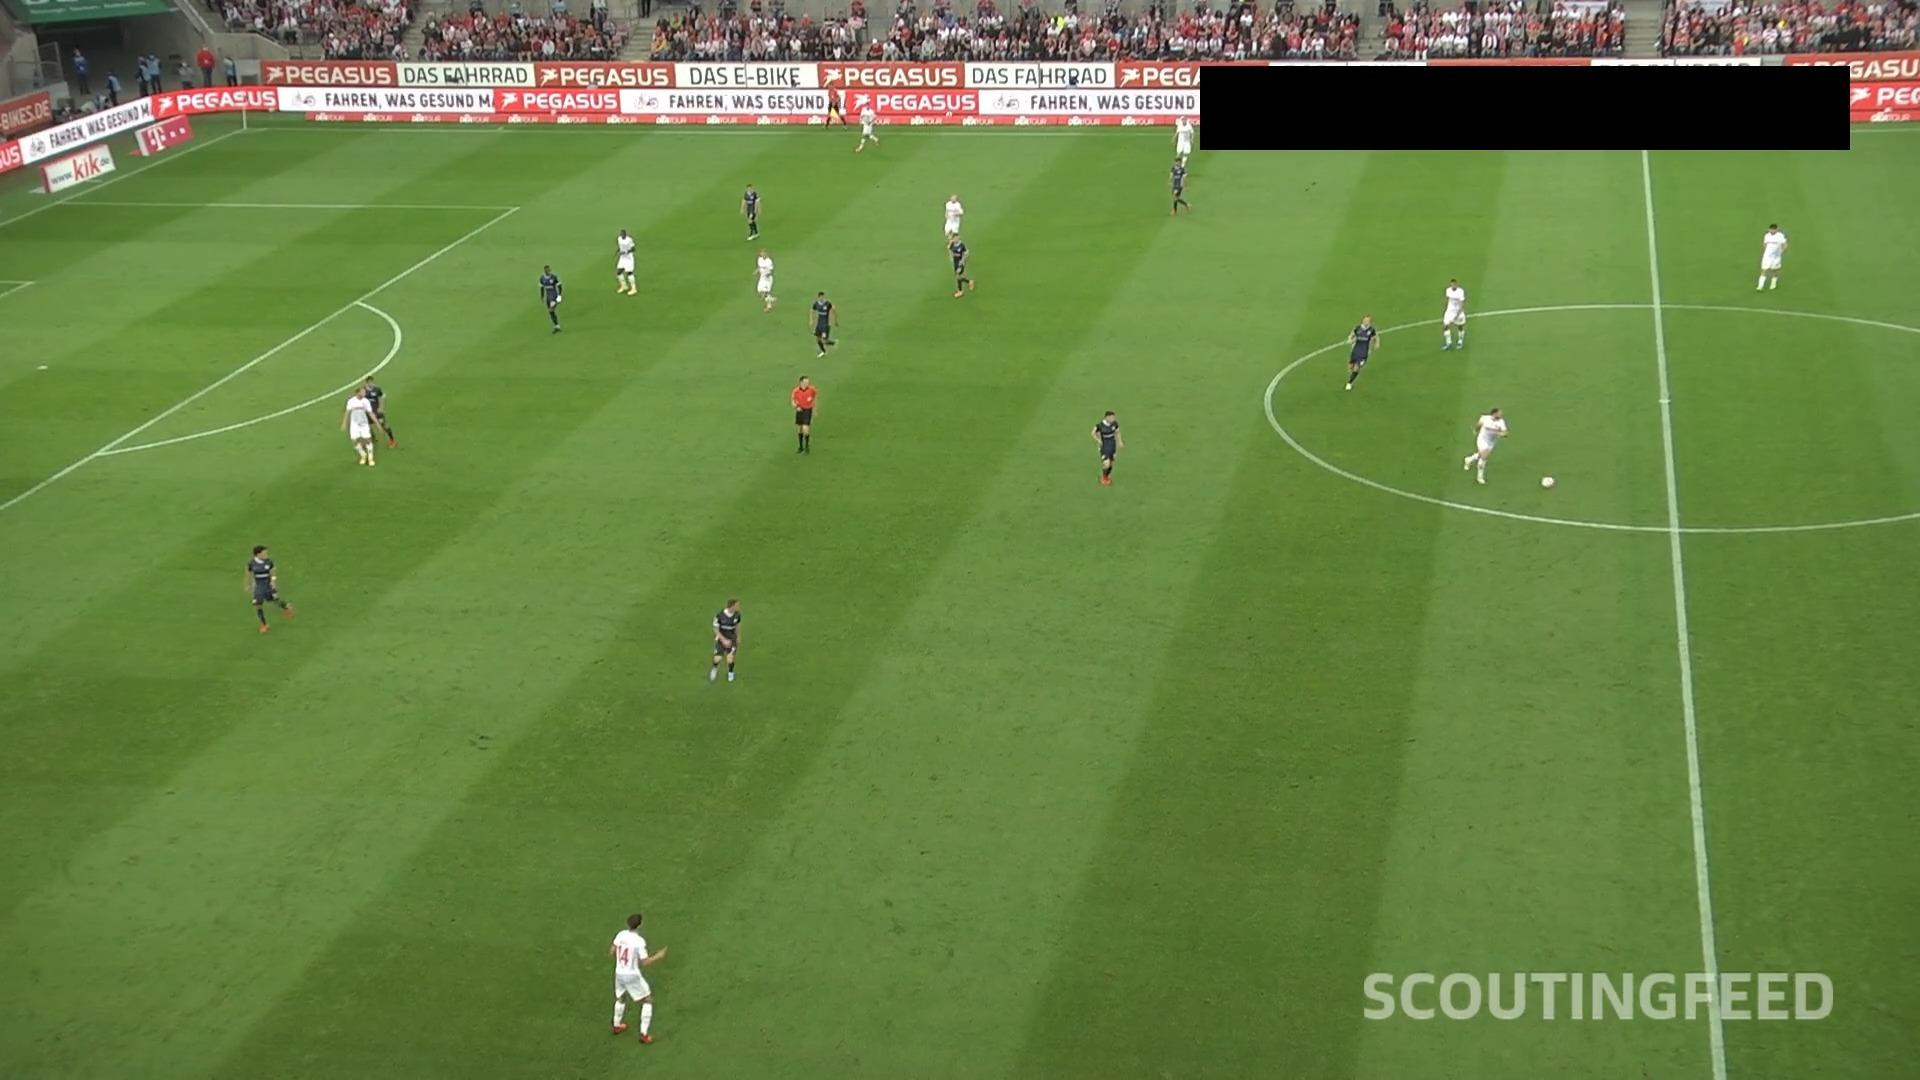ball: (1539, 475, 1556, 491)
